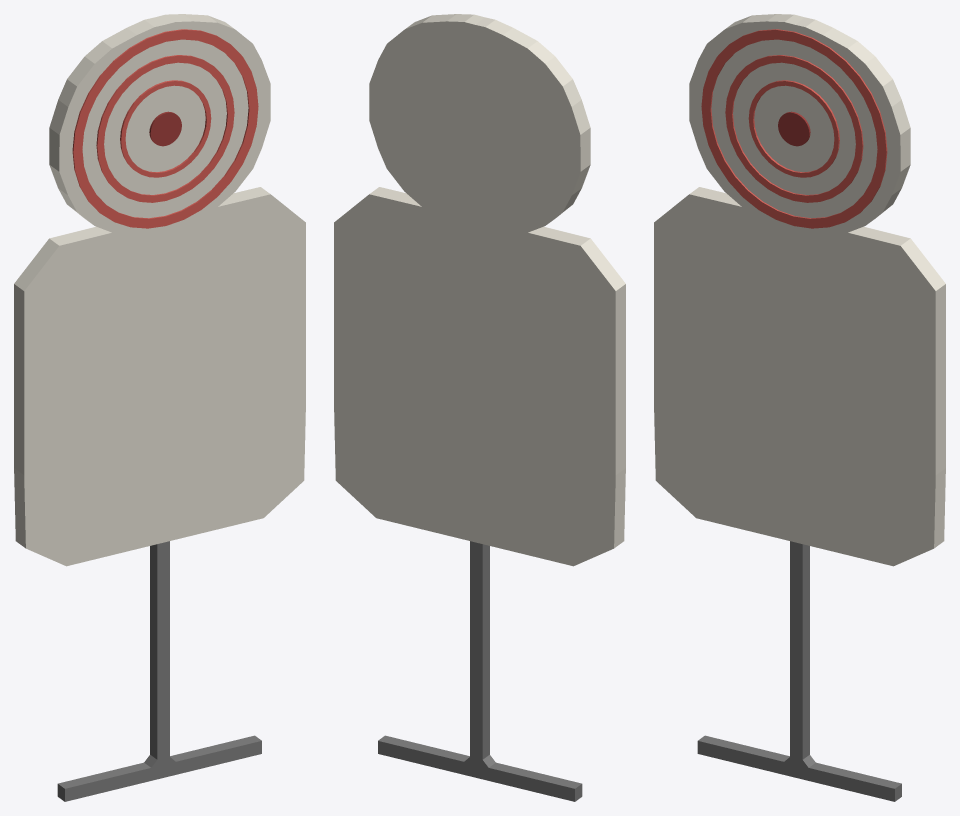
File: Cibleblanc.glb
3 views of the same model, side by side, from view 1: azimuth 30°, elevation 25°; view 2: azimuth 150°, elevation 25°; view 3: azimuth 330°, elevation 25° (orthographic).
Visible parts, largest first — view 1: Plane.002; view 2: Plane.002; view 3: Plane.002.
Boxes of the visible parts, x1,y1,x2,y2 form: Plane.002: [14, 14, 305, 801]; Plane.002: [334, 14, 625, 801]; Plane.002: [654, 14, 945, 801].
Size of the model in its own units: 0.8007 by 2.05 by 0.0562.
